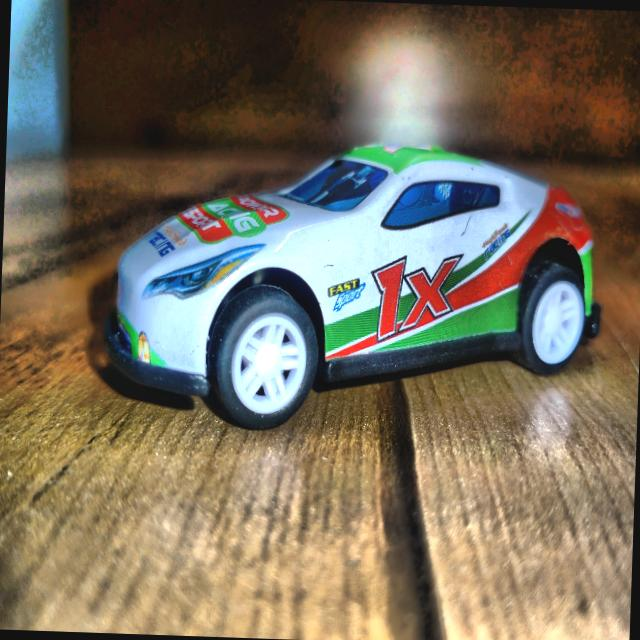Car: (112, 138, 604, 440)
